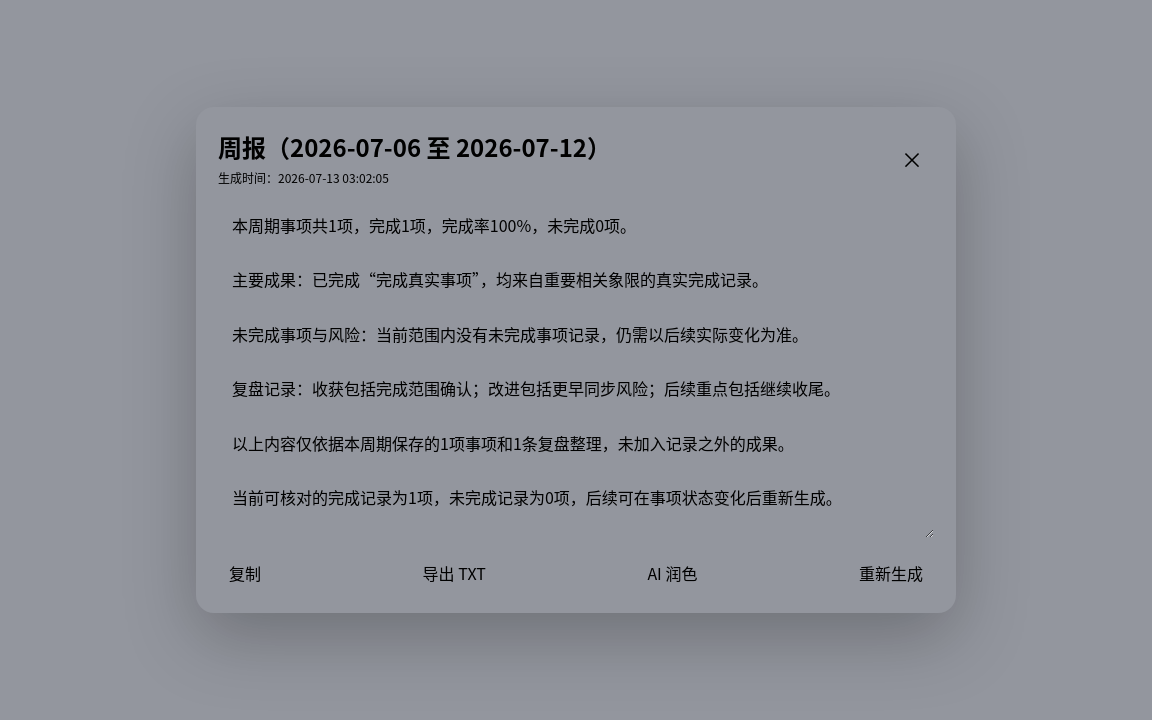
it: ReportDialog › shows the fixed unconfigured AI result without fetch or an SDK request
The image size is (1152, 720).
Expected: the text box named "报告正文" is shown, [218, 198, 934, 538]
Click the button "AI 润色" at (672, 573), box [636, 555, 708, 591]
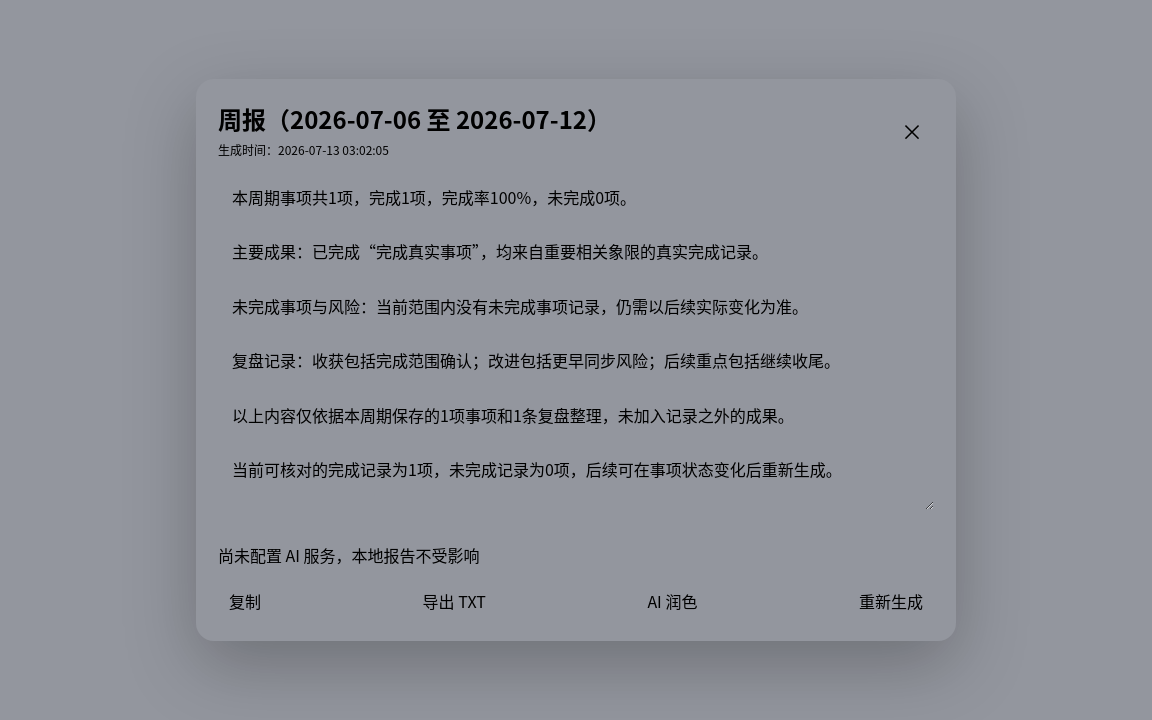
Expected: the message reads "尚未配置 AI 服务，本地报告不受影响", [218, 543, 480, 567]
